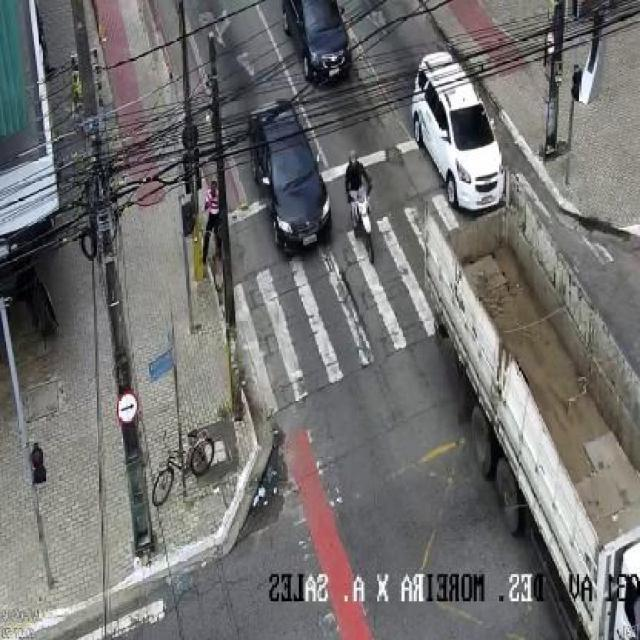Car: (408, 43, 518, 208), (244, 78, 339, 250), (273, 0, 372, 92)
Cycle: (336, 130, 386, 254)
Truck: (400, 196, 640, 640)
